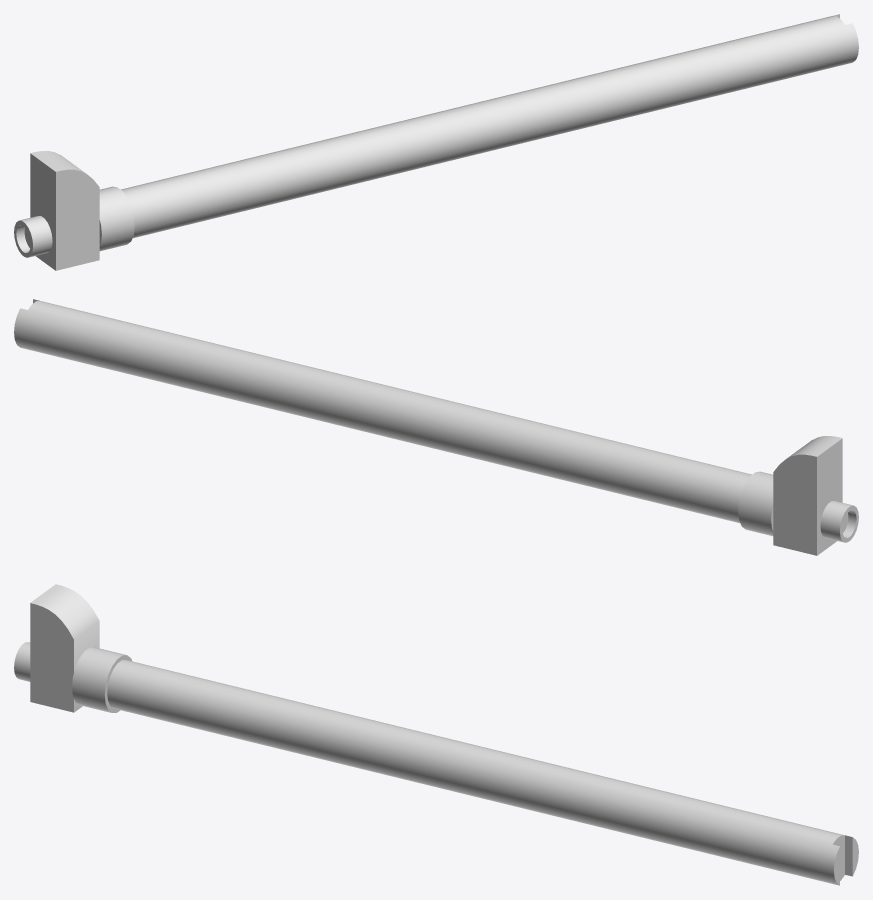
The model's file is 03_PushRod_UVReady.fbx.
3 views of the same model, one above another, from view 1: azimuth 30°, elevation 25°; view 2: azimuth 150°, elevation 25°; view 3: azimuth 330°, elevation 25° (orthographic).
Visible parts, largest first — view 1: 03_PushRod; view 2: 03_PushRod; view 3: 03_PushRod.
Boxes of the visible parts, x1,y1,x2,y2 form: 03_PushRod: (14, 14, 858, 270); 03_PushRod: (14, 299, 858, 555); 03_PushRod: (14, 584, 858, 885).
Size of the model in its own units: 0.2415 by 0.0278 by 0.0152.
Materials: 1 (1 with a texture image).
